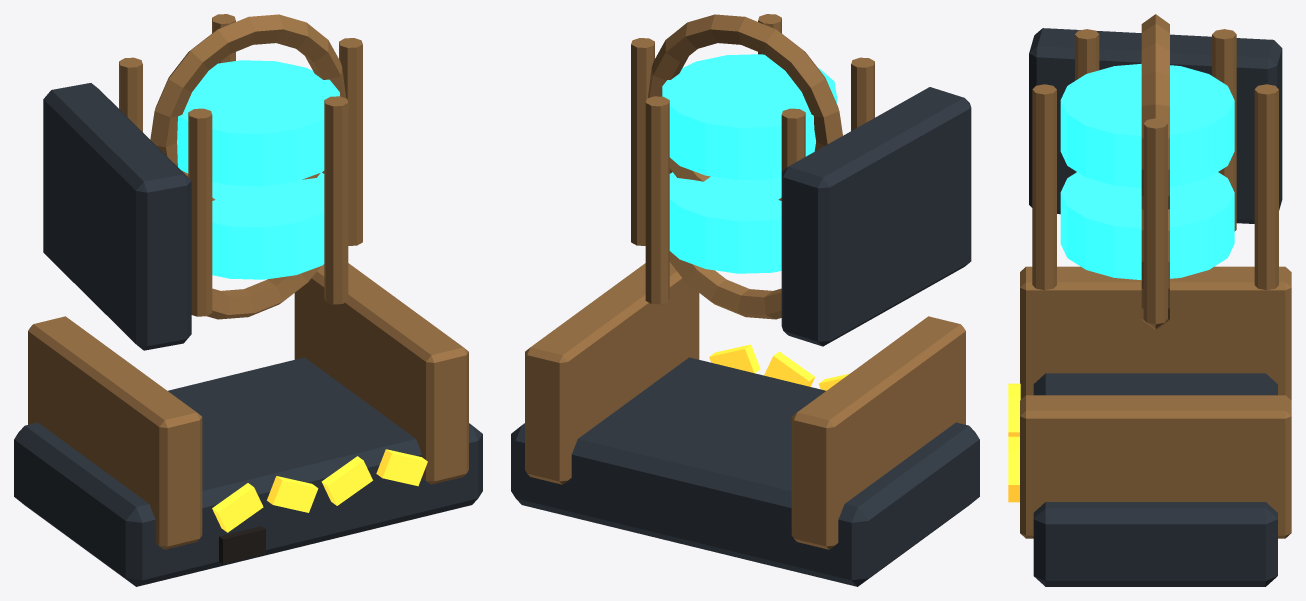
File: runtime.glb
3 renders of one model, left to right at view 1: azimuth 30°, elevation 25°; view 2: azimuth 150°, elevation 25°; view 3: azimuth 270°, elevation 25°, orthographic.
Parts seen in each view (by area): view 1: kinetic-tide-warning-beacon-v08_steel_nocol, kinetic-tide-warning-beacon-v08_bronze_nocol, kinetic-tide-warning-beacon-v08_cyansignal_nocol, kinetic-tide-warning-beacon-v08_warningorange_nocol, kinetic-tide-warning-beacon-v08_weardark_nocol; view 2: kinetic-tide-warning-beacon-v08_steel_nocol, kinetic-tide-warning-beacon-v08_bronze_nocol, kinetic-tide-warning-beacon-v08_cyansignal_nocol, kinetic-tide-warning-beacon-v08_warningorange_nocol; view 3: kinetic-tide-warning-beacon-v08_bronze_nocol, kinetic-tide-warning-beacon-v08_steel_nocol, kinetic-tide-warning-beacon-v08_cyansignal_nocol, kinetic-tide-warning-beacon-v08_warningorange_nocol.
Boxes of the visible parts, <box> form: kinetic-tide-warning-beacon-v08_steel_nocol: <box>14,83,482,586</box>; kinetic-tide-warning-beacon-v08_bronze_nocol: <box>28,14,468,549</box>; kinetic-tide-warning-beacon-v08_cyansignal_nocol: <box>177,60,339,279</box>; kinetic-tide-warning-beacon-v08_warningorange_nocol: <box>212,449,427,532</box>; kinetic-tide-warning-beacon-v08_weardark_nocol: <box>219,526,265,564</box>; kinetic-tide-warning-beacon-v08_steel_nocol: <box>511,87,979,586</box>; kinetic-tide-warning-beacon-v08_bronze_nocol: <box>525,14,965,549</box>; kinetic-tide-warning-beacon-v08_cyansignal_nocol: <box>662,54,836,273</box>; kinetic-tide-warning-beacon-v08_warningorange_nocol: <box>709,344,849,390</box>; kinetic-tide-warning-beacon-v08_bronze_nocol: <box>1020,14,1291,538</box>; kinetic-tide-warning-beacon-v08_steel_nocol: <box>1029,28,1282,586</box>; kinetic-tide-warning-beacon-v08_cyansignal_nocol: <box>1060,63,1234,280</box>; kinetic-tide-warning-beacon-v08_warningorange_nocol: <box>1008,383,1020,502</box>.
Size of the model in its own units: 1.68 by 2.19 by 1.17.
